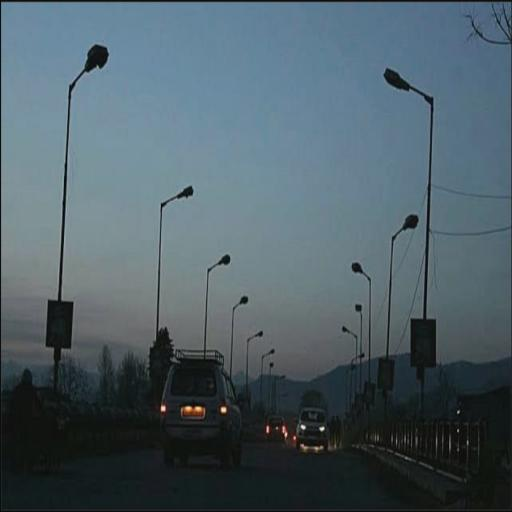off street light: (47, 39, 111, 386), (386, 58, 446, 374), (159, 169, 194, 371), (230, 279, 258, 383), (352, 247, 374, 358), (207, 245, 229, 347), (262, 340, 277, 377)
